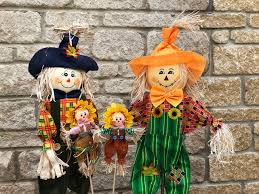person-like: (126, 20, 233, 194), (29, 32, 101, 194), (101, 102, 144, 177), (66, 100, 101, 176)
